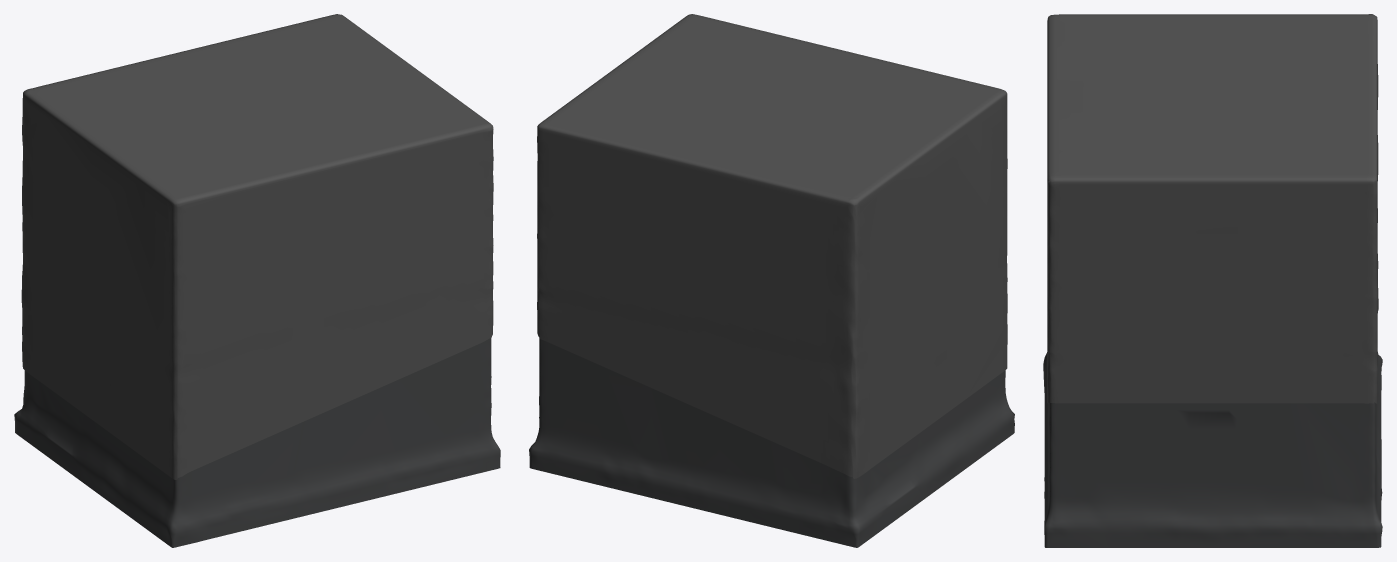
File: SM_WM00216_Wrapped_Boxes_3_Plastic.glb
3 views of the same model, side by side, from view 1: azimuth 30°, elevation 25°; view 2: azimuth 150°, elevation 25°; view 3: azimuth 270°, elevation 25° (orthographic). The views are drawn at different scales.
Visible parts, largest first — view 1: SM_WM00216_Wrapped_Boxes_3_Plastic; view 2: SM_WM00216_Wrapped_Boxes_3_Plastic; view 3: SM_WM00216_Wrapped_Boxes_3_Plastic.
Part boxes in pixels (x1,y1,x2,y2): SM_WM00216_Wrapped_Boxes_3_Plastic: [14, 14, 500, 547]; SM_WM00216_Wrapped_Boxes_3_Plastic: [529, 14, 1014, 547]; SM_WM00216_Wrapped_Boxes_3_Plastic: [1043, 14, 1382, 547].
Bounding box in the file's own units: 1.23 × 1.22 × 1.03.
Materials: 2 (2 with a texture image).
